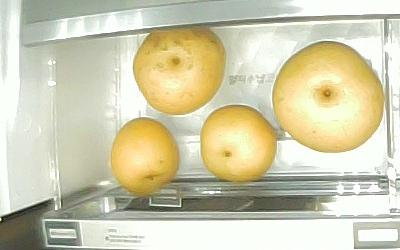pear: (272, 40, 383, 153), (132, 29, 225, 115), (200, 104, 276, 182), (111, 117, 178, 195)
